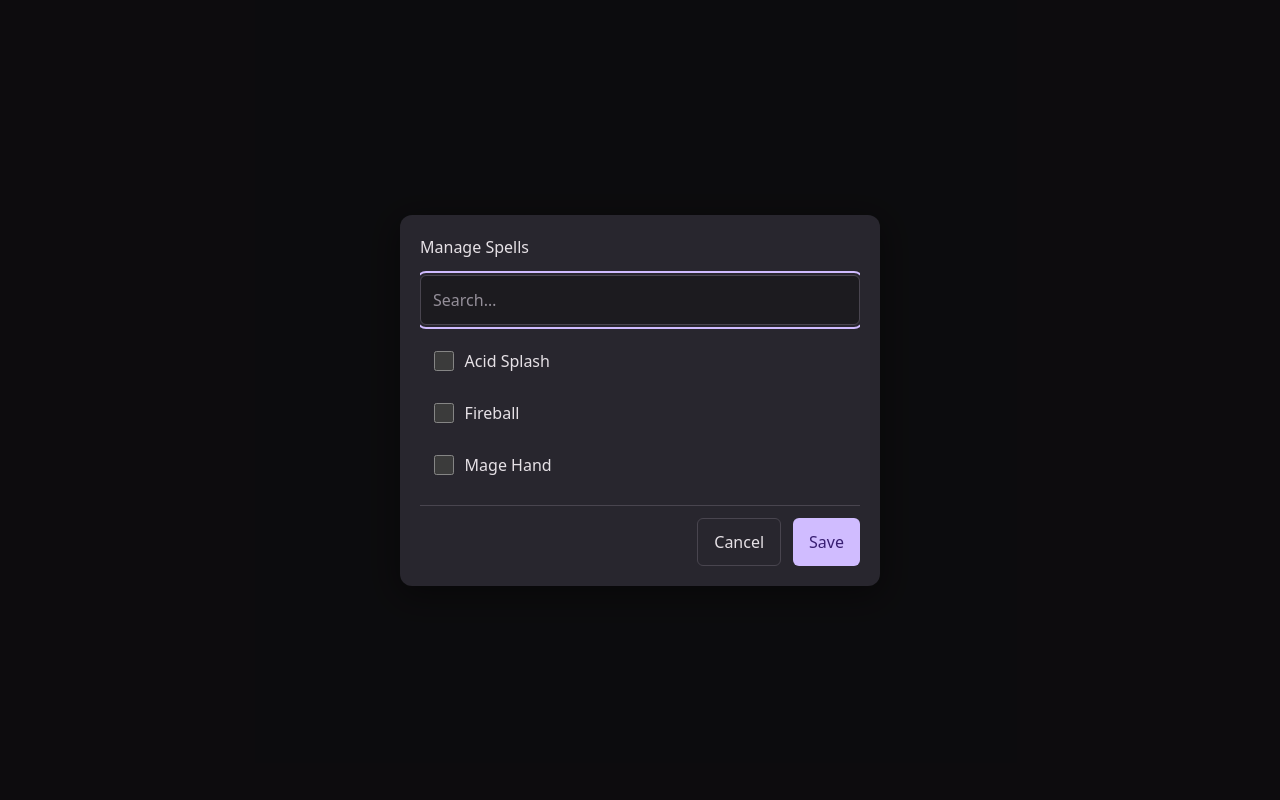
Test case: ManageAssignmentsDialog › shows a save error inline and keeps the dialog open for retry
Click the button "Save" at (827,542), box [793, 518, 860, 566]
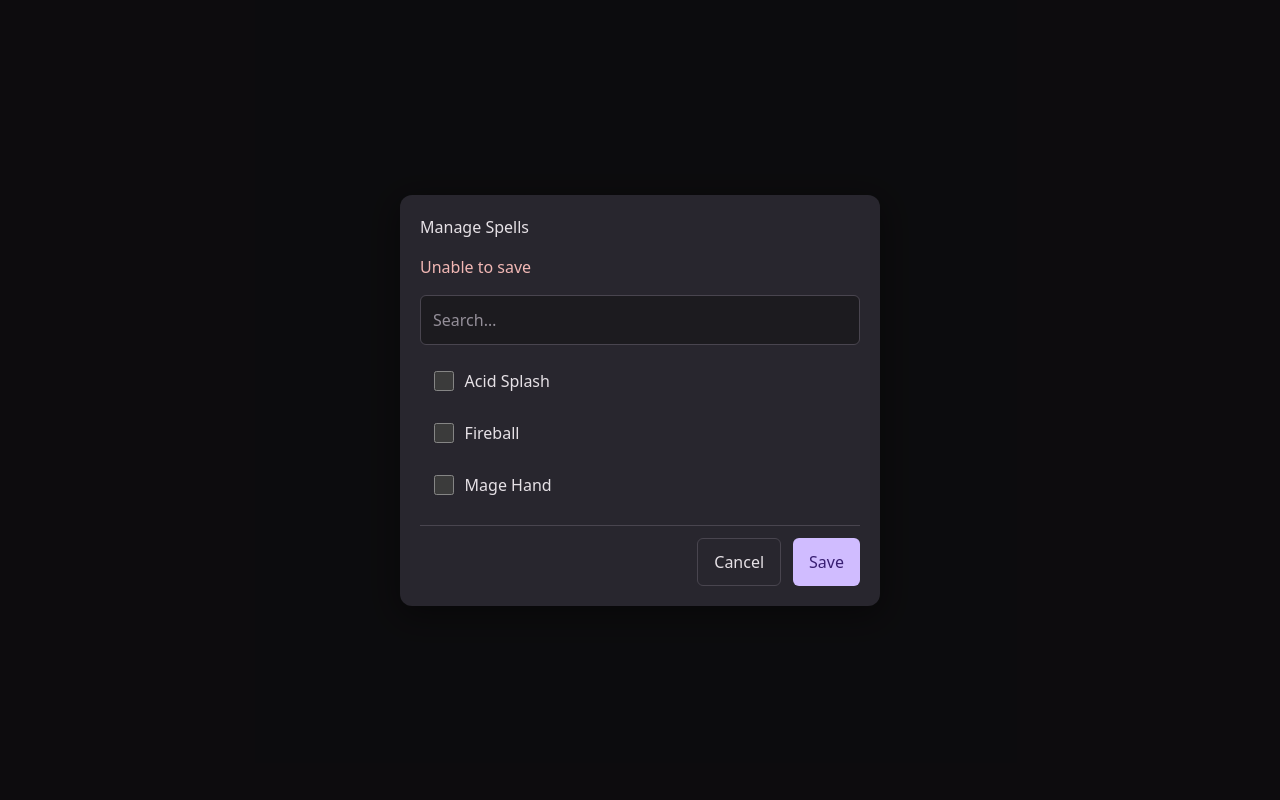
Now the message reads "Unable to save", box [420, 256, 531, 278]
